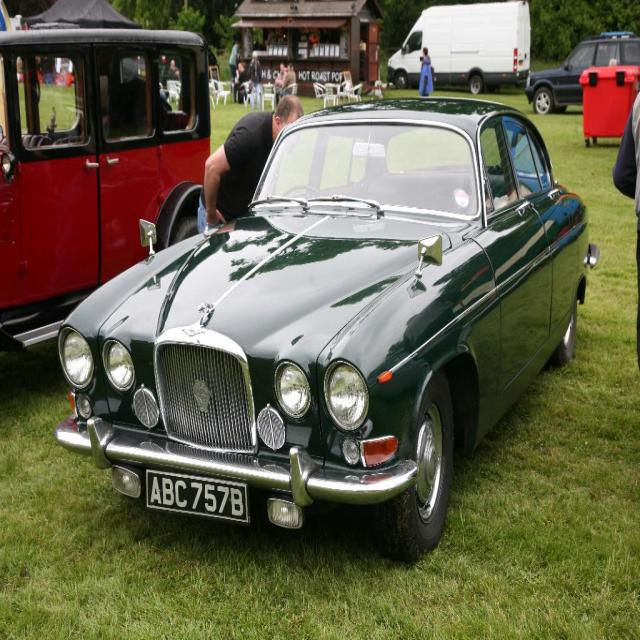car: (52, 94, 598, 574)
